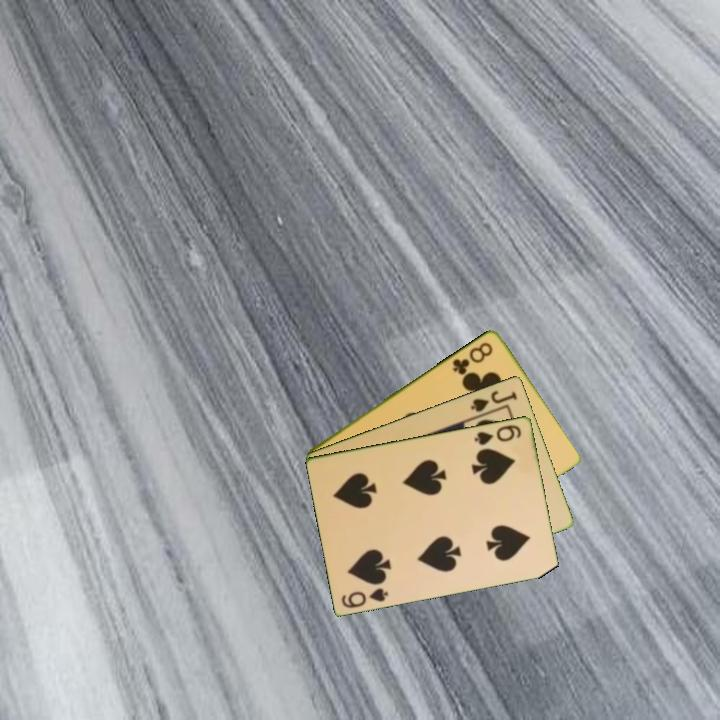6s: (471, 421, 524, 448), (338, 584, 391, 611)
8c: (449, 338, 496, 378)
Js: (467, 387, 520, 415)
